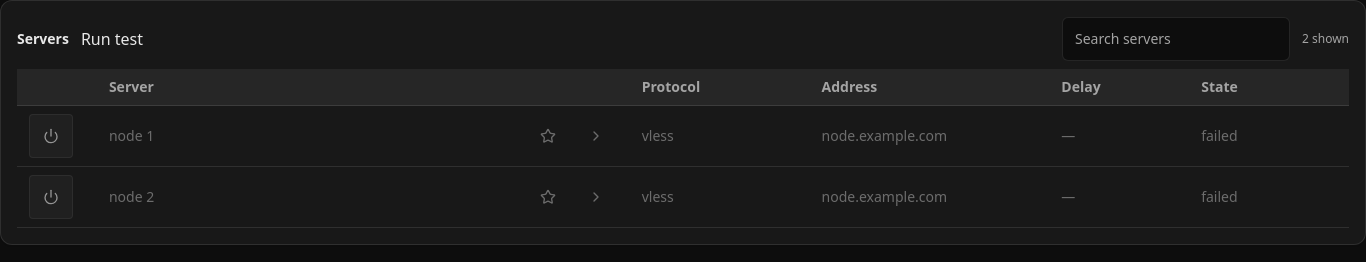
Test case: Servers probe controls › narrows rows by a case-insensitive search over remarks
In the search field labelled "Search servers": (1176, 39) [1062, 17, 1290, 61], type "NODE 2"
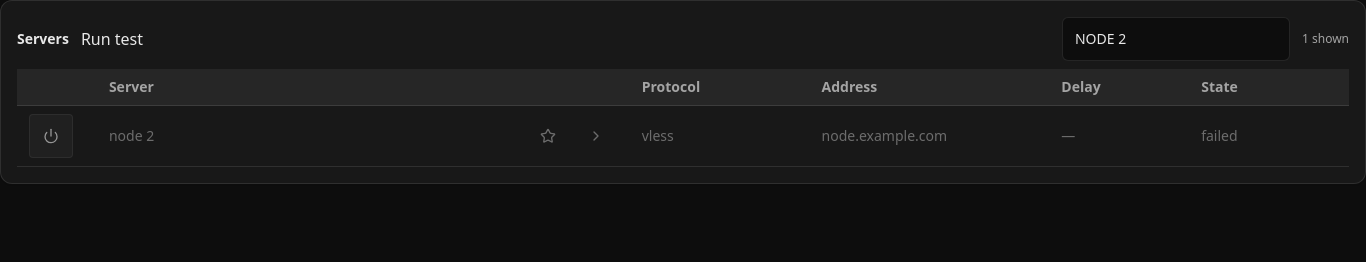
Now the number of rows with test id "server-row" is 1, box [17, 106, 1349, 166]
